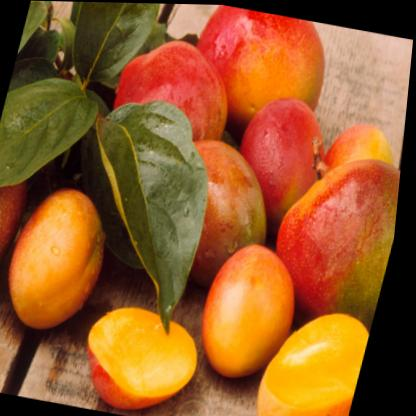mango: (259, 138, 406, 348), (0, 171, 133, 346), (188, 232, 314, 387), (77, 289, 220, 416), (250, 295, 381, 416)
